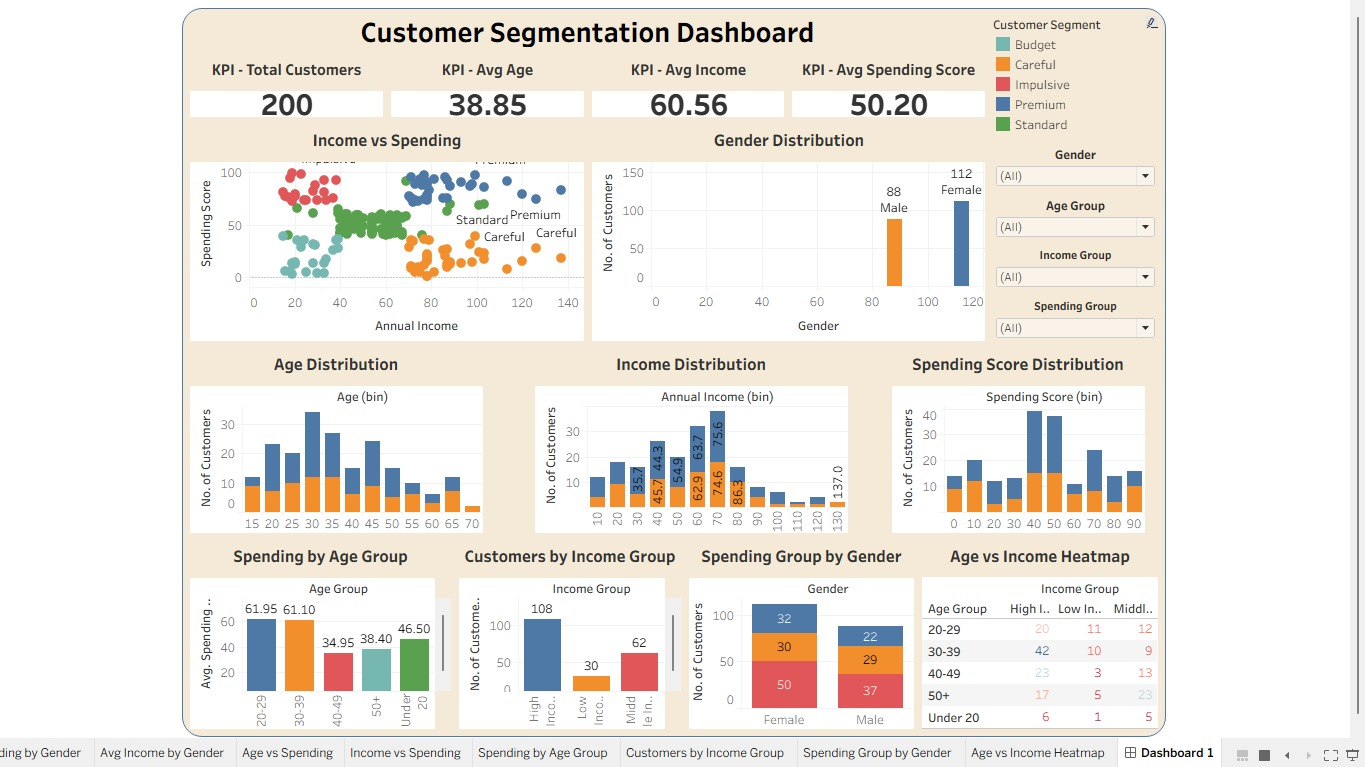

The dashboard page shown, as its layout file describes it:
{"tool":"tableau","page":{"name":"Dashboard 1","canvas":[1000,745],"ordinal":0},"visuals":[{"type":"text","box":[12,12,803,39]},{"type":"legend","title":"Income vs Spending","param":"[federated.1ka4ci10n5acvt1ckwv6j1r4yvaq].[none:Calculation_1037996866760710:nk]","box":[815,12,173,130]},{"type":"worksheet","title":"KPI - Total Customers","mark":"Automatic","box":[12,51,200.8,70.1]},{"type":"worksheet","title":"KPI - Avg Age","mark":"Automatic","box":[212.8,51,200.8,70.1]},{"type":"worksheet","title":"KPI - Avg Income","mark":"Automatic","box":[413.5,51,200.8,70.1]},{"type":"worksheet","title":"KPI - Avg Spending Score","mark":"Automatic","box":[614.2,51,200.8,70.1]},{"type":"worksheet","title":"Income vs Spending","mark":"Shape","rows":["Spending Score (1-100)"],"cols":["Annual Income (k$)"],"box":[12,121.1,401.5,223.7]},{"type":"worksheet","title":"Gender Distribution","mark":"Bar","rows":["CustomerID"],"cols":["Gender"],"box":[413.5,121.1,401.5,223.7]},{"type":"filter","title":"Income vs Spending","param":"[federated.1ka4ci10n5acvt1ckwv6j1r4yvaq].[none:Gender:nk]","box":[815,142,173,50.7]},{"type":"filter","title":"Income vs Spending","param":"[federated.1ka4ci10n5acvt1ckwv6j1r4yvaq].[none:Calculation_1037996868710407:nk]","box":[815,192.7,173,50.7]},{"type":"filter","title":"Income vs Spending","param":"[federated.1ka4ci10n5acvt1ckwv6j1r4yvaq].[none:Calculation_1037996868821000:nk]","box":[815,243.4,173,50.7]},{"type":"filter","title":"Income vs Spending","param":"[federated.1ka4ci10n5acvt1ckwv6j1r4yvaq].[none:Calculation_1037996868907017:nk]","box":[815,294.1,173,50.7]},{"type":"worksheet","title":"Age Distribution","mark":"Bar","rows":["CustomerID"],"cols":["Age (bin)"],"box":[12,344.8,345,192.2]},{"type":"worksheet","title":"Income Distribution","mark":"Automatic","rows":["CustomerID"],"cols":["Annual Income (bin)"],"box":[357,344.8,357,192.2]},{"type":"worksheet","title":"Spending Score Distribution","mark":"Automatic","rows":["CustomerID"],"cols":["Spending Score (bin)"],"box":[714,344.8,269,192.2]},{"type":"worksheet","title":"Spending by Age Group","mark":"Automatic","rows":["Spending Score (1-100)"],"cols":["Calculation_1037996868710407"],"box":[12,537,269,196]},{"type":"worksheet","title":"Customers by Income Group","mark":"Automatic","rows":["CustomerID"],"cols":["Calculation_1037996868821000"],"box":[281,537,229.8,196]},{"type":"worksheet","title":"Spending Group by Gender","mark":"Automatic","rows":["CustomerID"],"cols":["Gender"],"box":[510.8,537,233.2,196]},{"type":"worksheet","title":"Age vs Income Heatmap","mark":"Automatic","rows":["Calculation_1037996868710407"],"cols":["Calculation_1037996868821000"],"box":[744,537,244,196]}]}

Visuals, with their boxes on the page's 1000x745 design canvas (x1, y1, x2, y2). These are canvas units, not pixel positions in the 1365x767 screenshot, which may show the page scaled, cropped or inside an application window:
text: BBox(12, 12, 815, 51)
"Income vs Spending" legend: BBox(815, 12, 988, 142)
"KPI - Total Customers" worksheet: BBox(12, 51, 213, 121)
"KPI - Avg Age" worksheet: BBox(213, 51, 414, 121)
"KPI - Avg Income" worksheet: BBox(414, 51, 614, 121)
"KPI - Avg Spending Score" worksheet: BBox(614, 51, 815, 121)
"Income vs Spending" worksheet (Shape marks): BBox(12, 121, 414, 345)
"Gender Distribution" worksheet (Bar marks): BBox(414, 121, 815, 345)
"Income vs Spending" filter: BBox(815, 142, 988, 193)
"Income vs Spending" filter: BBox(815, 193, 988, 243)
"Income vs Spending" filter: BBox(815, 243, 988, 294)
"Income vs Spending" filter: BBox(815, 294, 988, 345)
"Age Distribution" worksheet (Bar marks): BBox(12, 345, 357, 537)
"Income Distribution" worksheet: BBox(357, 345, 714, 537)
"Spending Score Distribution" worksheet: BBox(714, 345, 983, 537)
"Spending by Age Group" worksheet: BBox(12, 537, 281, 733)
"Customers by Income Group" worksheet: BBox(281, 537, 511, 733)
"Spending Group by Gender" worksheet: BBox(511, 537, 744, 733)
"Age vs Income Heatmap" worksheet: BBox(744, 537, 988, 733)
